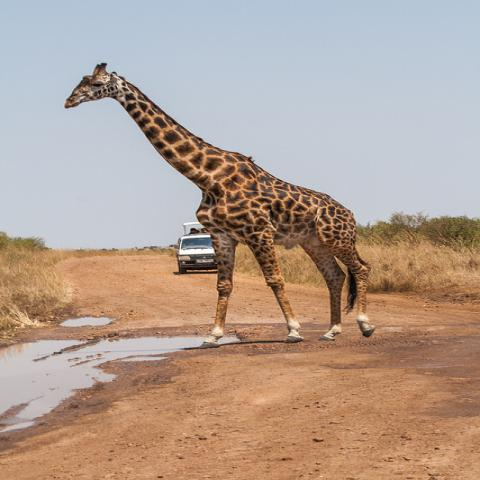car: (173, 234, 219, 274)
